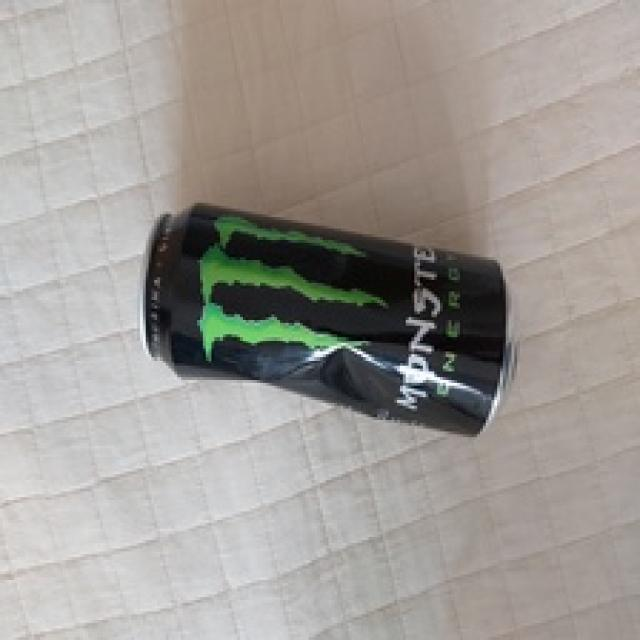recyclable: (142, 200, 523, 442)
